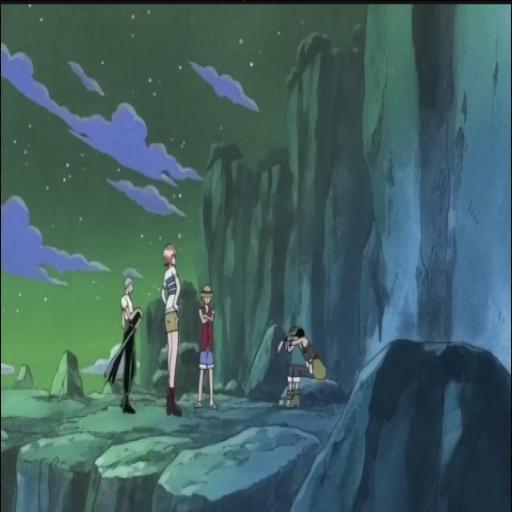Luffy: (192, 281, 222, 414)
Nami: (156, 241, 180, 419)
Usopp: (270, 324, 336, 432)
Zoro: (114, 270, 148, 430)
